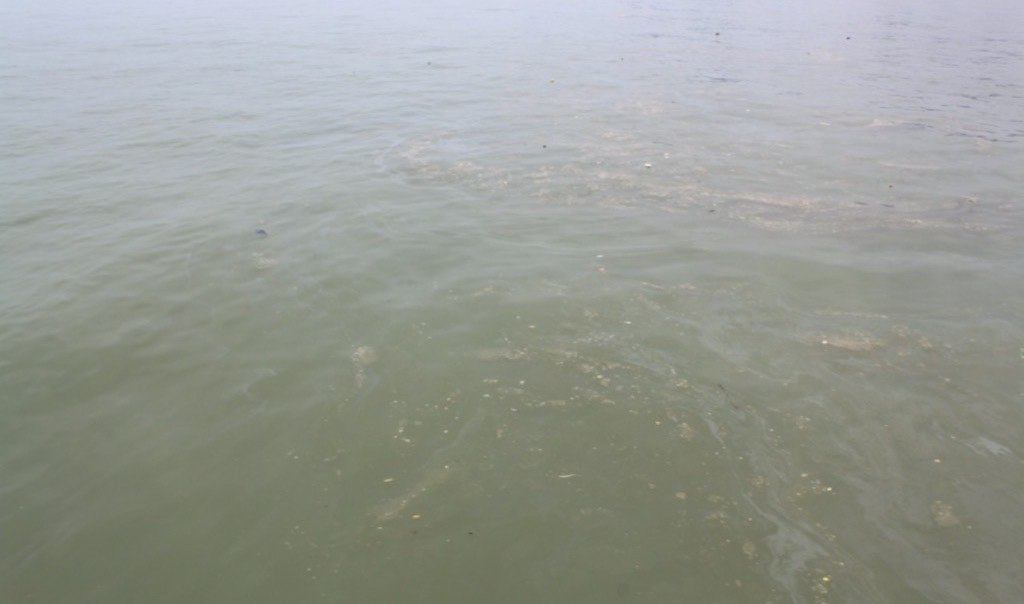organic: (835, 29, 859, 46), (708, 25, 730, 43), (540, 139, 550, 152)
plastic: (246, 221, 277, 251), (635, 155, 669, 181)
